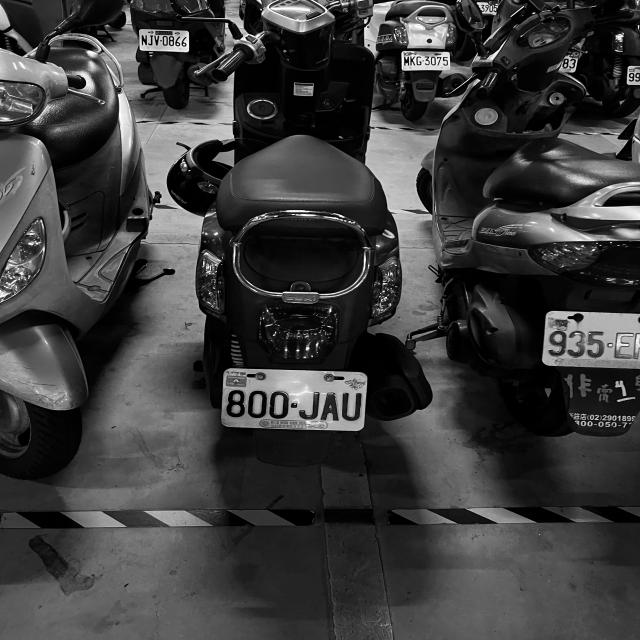-: (290, 401, 300, 413), (607, 341, 614, 348), (160, 40, 162, 41), (422, 60, 424, 61)
0: (270, 388, 290, 420), (247, 388, 268, 418), (162, 36, 168, 46), (431, 56, 436, 66), (489, 4, 494, 12)
3: (568, 331, 586, 358), (424, 56, 430, 66), (570, 58, 576, 68), (480, 4, 484, 12)
5: (587, 331, 605, 358), (442, 56, 448, 66), (493, 5, 498, 12)
6: (181, 36, 187, 46), (176, 36, 180, 46)
7: (437, 56, 441, 66)
8: (226, 388, 248, 420), (168, 36, 174, 46), (563, 58, 569, 68)
9: (548, 330, 568, 358), (629, 72, 635, 82), (635, 72, 640, 82), (485, 4, 489, 12)
A: (322, 391, 339, 423)
E: (615, 332, 633, 360)
G: (417, 56, 422, 66)
J: (299, 386, 321, 420), (148, 34, 153, 46)
K: (410, 56, 416, 66)
M: (404, 56, 409, 66)
N: (140, 34, 148, 46)
U: (341, 391, 364, 421)
V: (154, 34, 160, 46)
plate: (226, 366, 365, 431), (139, 30, 189, 51), (403, 52, 449, 68)
